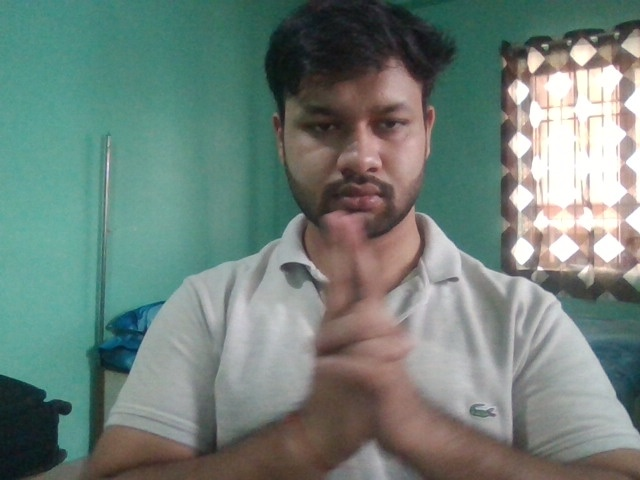1000 Years of Death: (288, 209, 427, 466)
